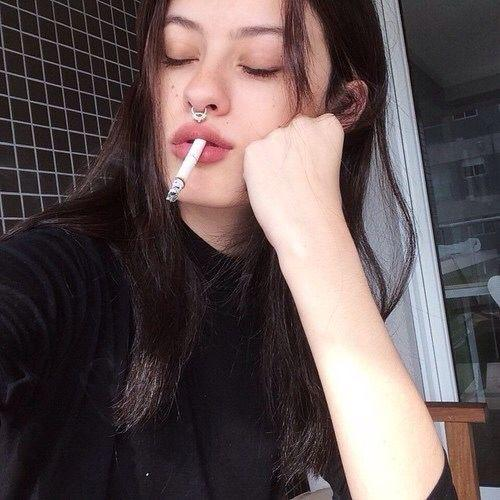cigarette: (166, 138, 207, 202)
